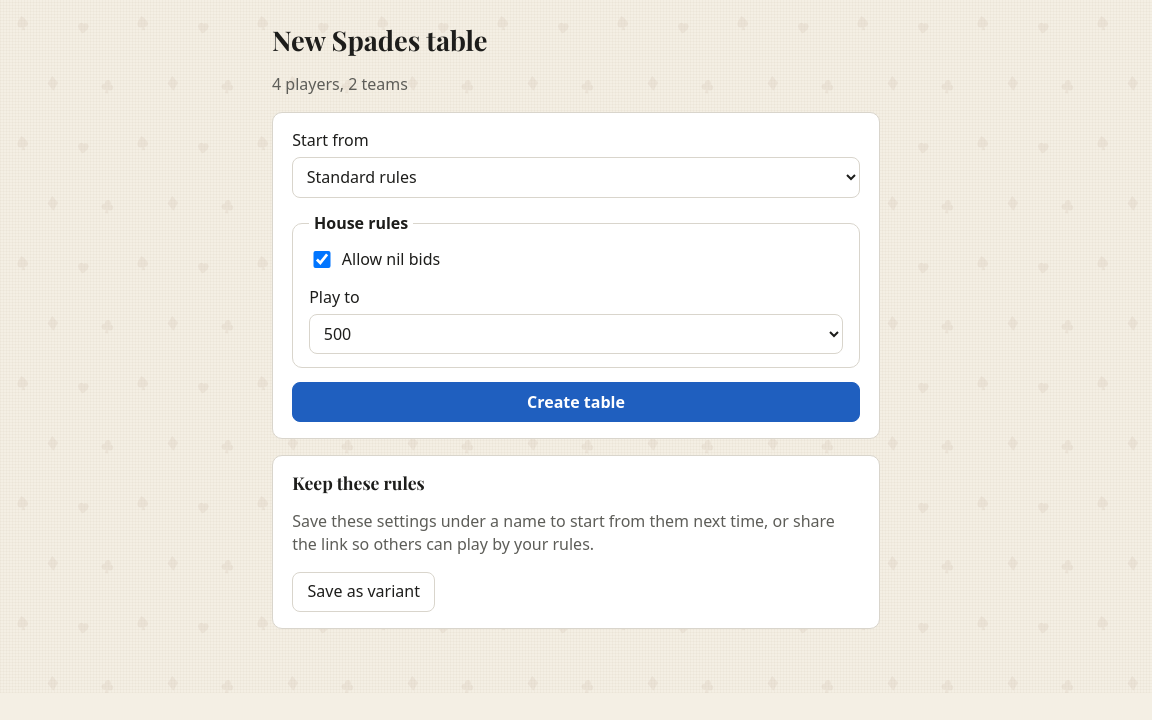
Test: creating a table from a variant › switches between your variants and the standard rules
Expected: the checkbox labelled "Allow nil bids" is checked, [313, 251, 331, 268]
Select "Short game" in the dropdown labelled "Start from": (576, 177) [292, 157, 860, 198]
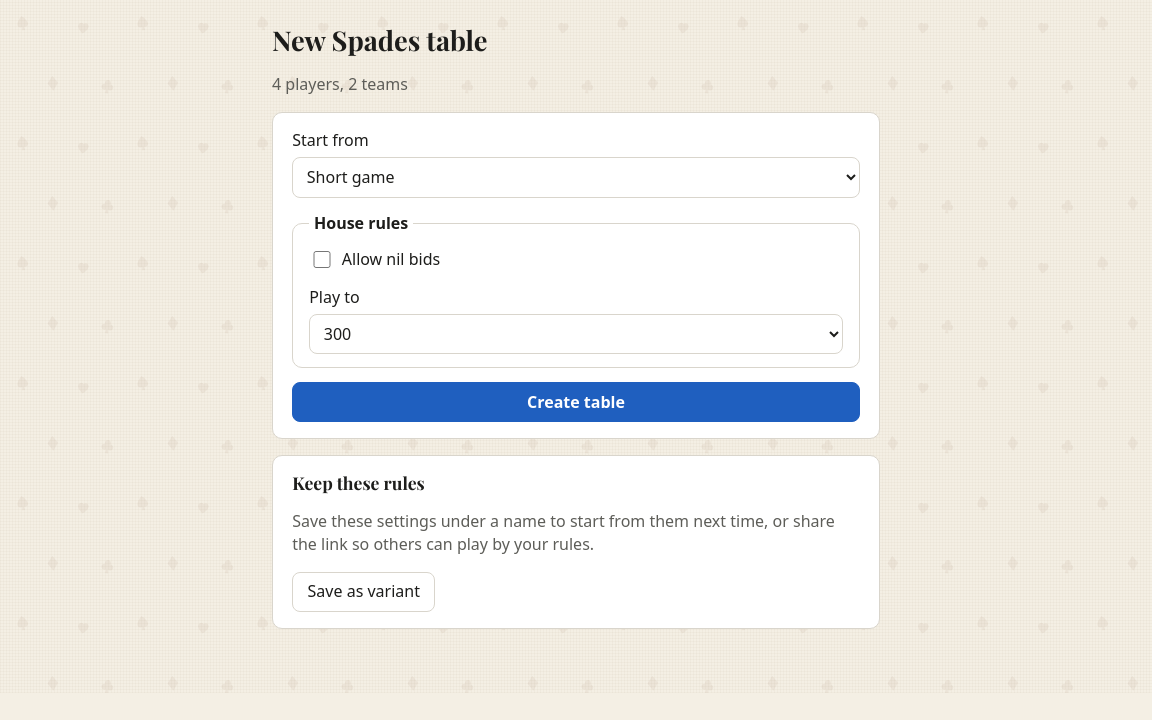
Result: the checkbox labelled "Allow nil bids" is not checked at [313, 251, 331, 268]
Select "Standard rules" in the dropdown labelled "Start from": (576, 177) [292, 157, 860, 198]
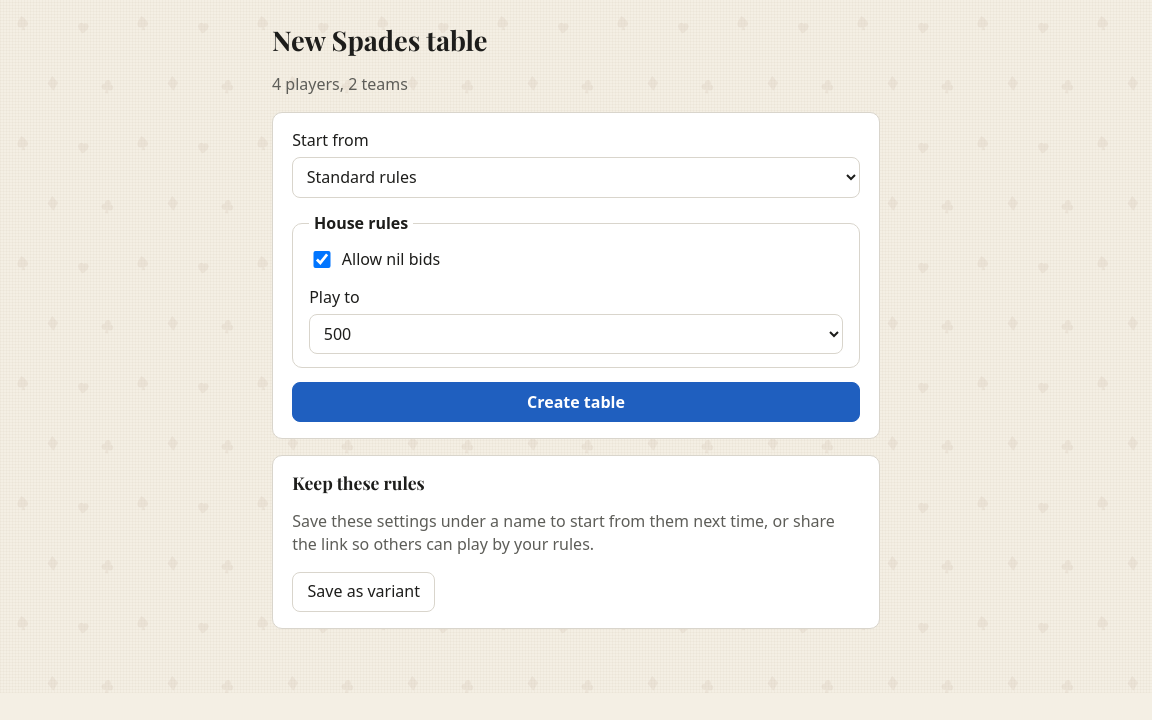
Result: the checkbox labelled "Allow nil bids" is checked at [313, 251, 331, 268]
